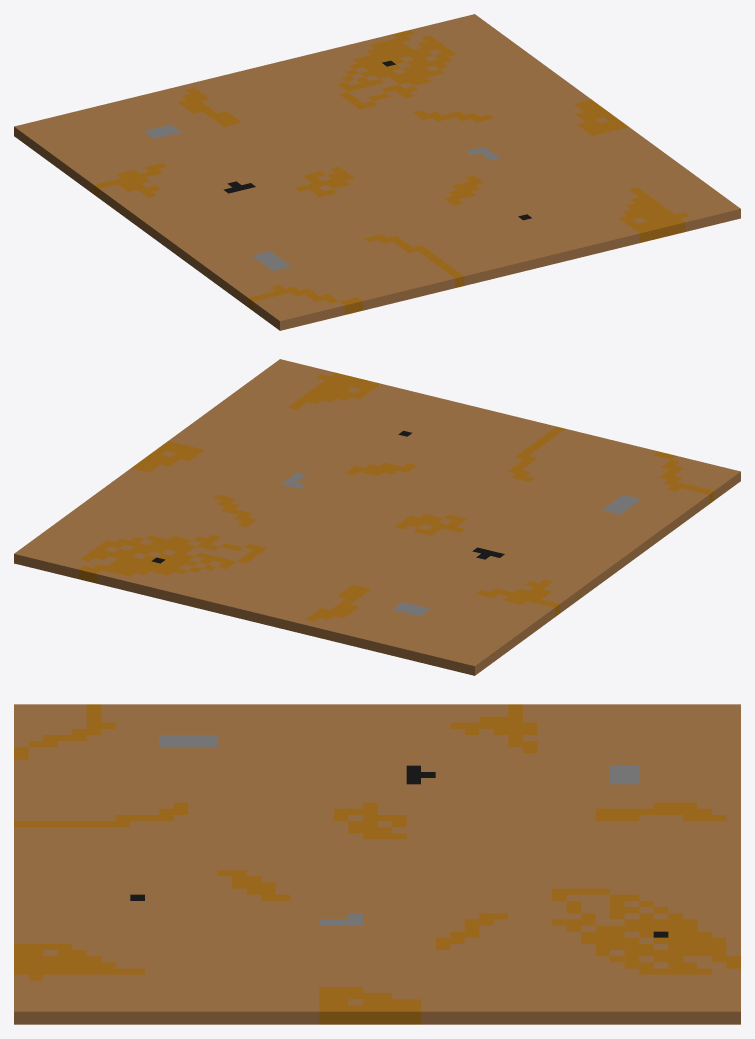
The model's file is earth_land.obj.
3 renders of one model, top to bottom at view 1: azimuth 30°, elevation 25°; view 2: azimuth 150°, elevation 25°; view 3: azimuth 270°, elevation 25°, orthographic. The views are drawn at different scales.
Bounding box in the file's own units: 50 × 1 × 50.
Materials: 1 (1 with a texture image).
